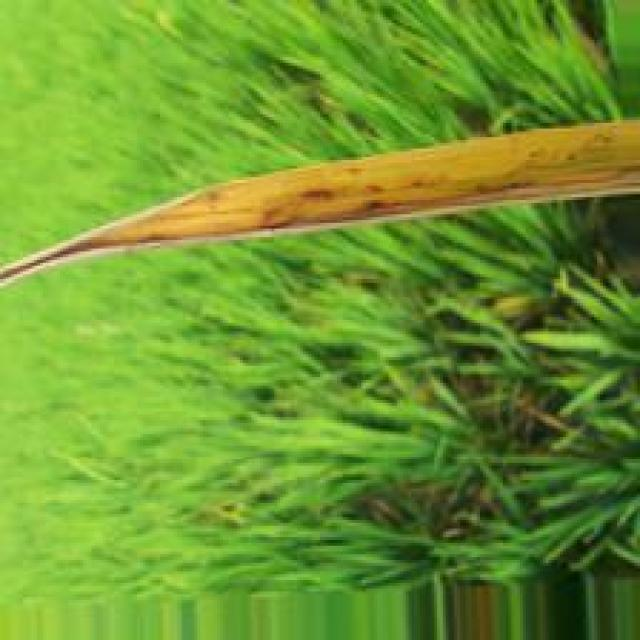Narrow_Brown_Leaf_Spot: (0, 118, 640, 289)
